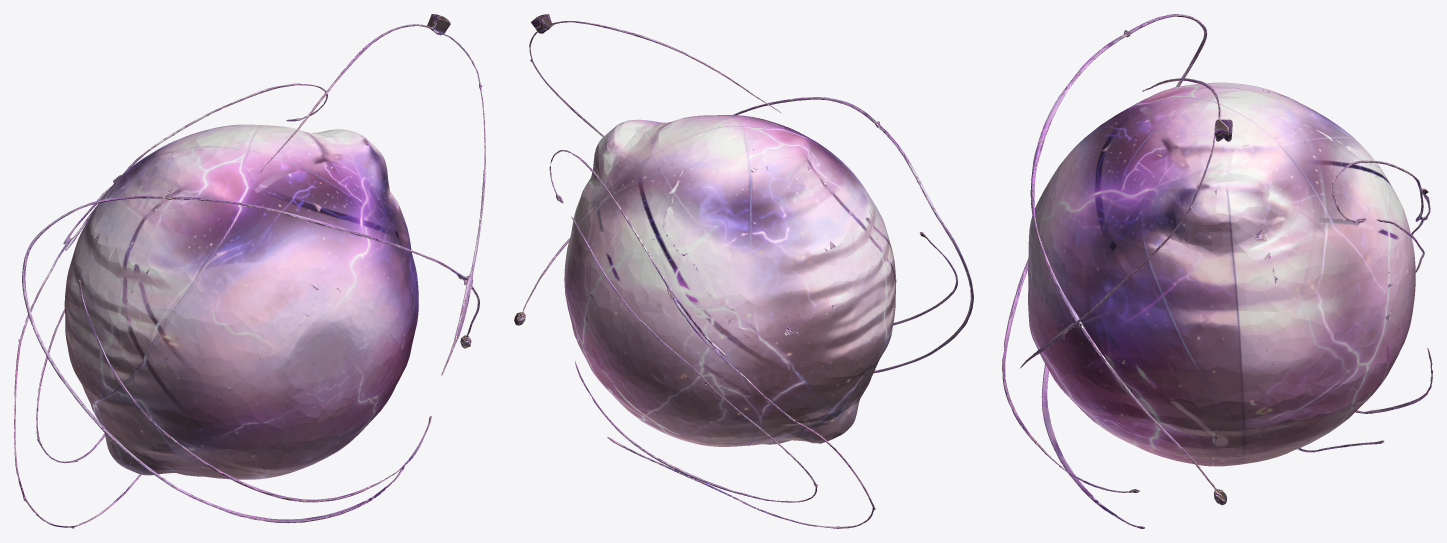
The model's file is energy-bolt-heavy-web.glb.
The picture shows the model from 3 angles, left to right: view 1: azimuth 30°, elevation 25°; view 2: azimuth 150°, elevation 25°; view 3: azimuth 270°, elevation 25°; orthographic projection. The views are drawn at different scales.
Visible parts, largest first — view 1: world; view 2: world; view 3: world.
Boxes of the visible parts, x1,y1,x2,y2 form: world: (14, 14, 485, 528); world: (514, 14, 973, 528); world: (1002, 14, 1432, 528).
Bounding box in the file's own units: 1.99 × 1.84 × 1.47.
Materials: 1 (1 with a texture image).
